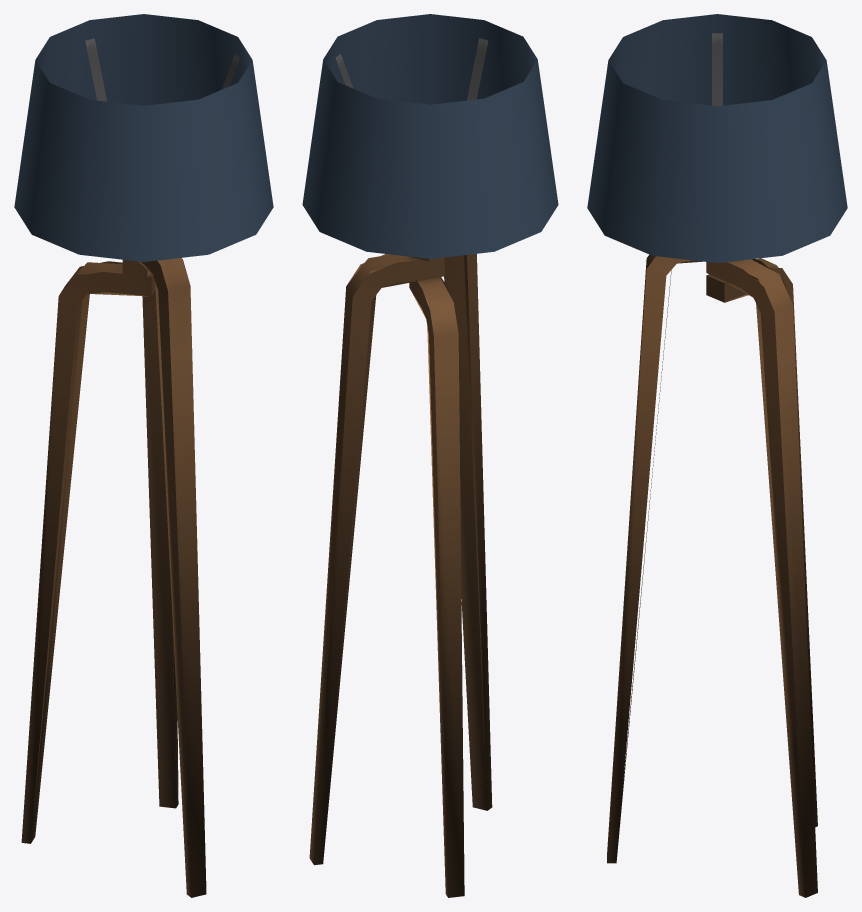
3 views of the same model, side by side, from view 1: azimuth 30°, elevation 25°; view 2: azimuth 150°, elevation 25°; view 3: azimuth 270°, elevation 25° (orthographic).
Visible parts, largest first — view 1: Mesh_0.003; view 2: Mesh_0.003; view 3: Mesh_0.003.
Boxes of the visible parts, x1=… form: Mesh_0.003: x1=14, y1=14, x2=273, y2=897; Mesh_0.003: x1=302, y1=14, x2=558, y2=897; Mesh_0.003: x1=587, y1=14, x2=847, y2=897.
Size of the model in its own units: 2 by 6.77 by 2.
1 material, 1 textured.
